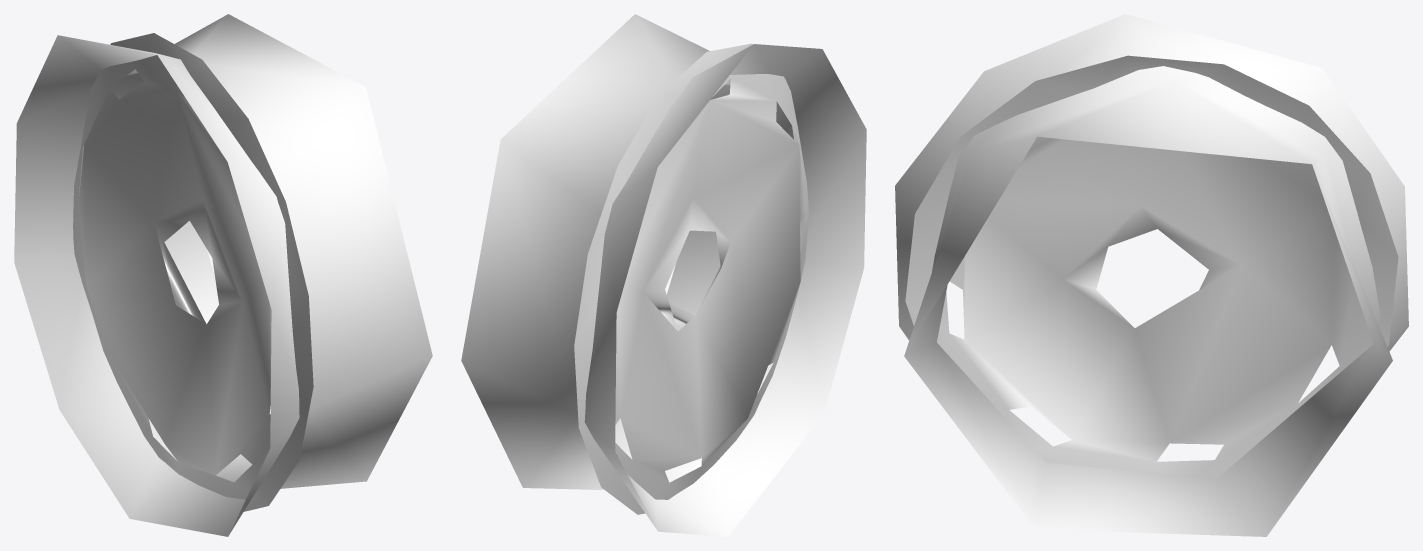
3 views of the same model, side by side, from view 1: azimuth 30°, elevation 25°; view 2: azimuth 150°, elevation 25°; view 3: azimuth 270°, elevation 25° (orthographic). The views are drawn at different scales.
Size of the model in its own units: 0.1418 by 0.3965 by 0.3814.
Materials: 1 (1 with a texture image).
